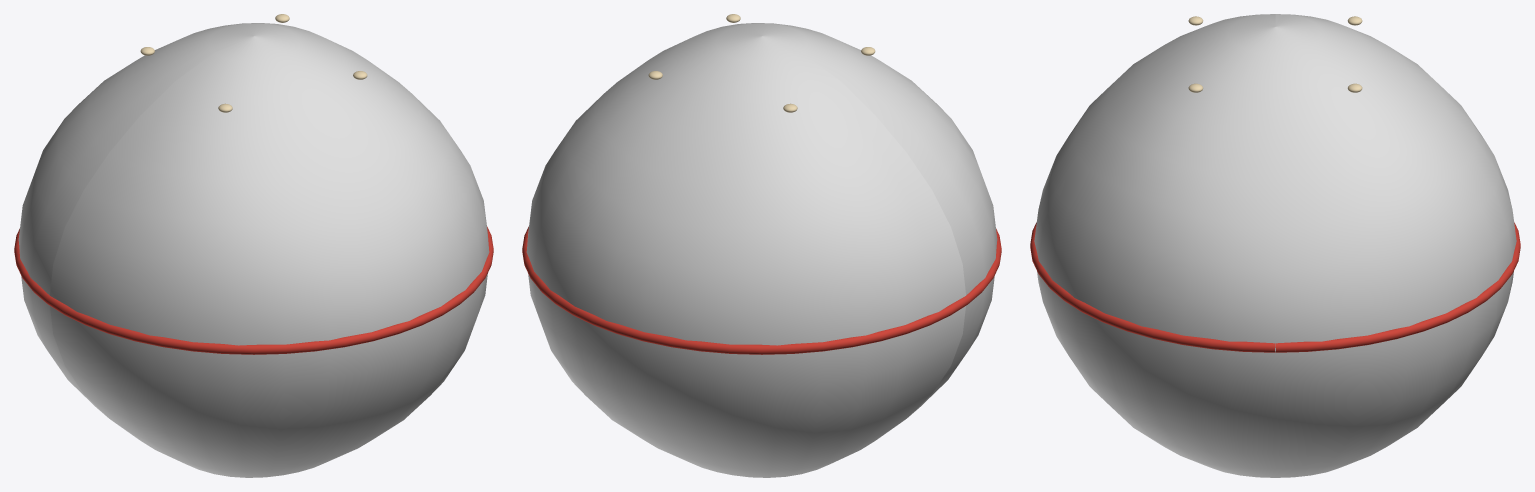
The model's file is pillow.glb.
The picture shows the model from 3 angles, left to right: view 1: azimuth 30°, elevation 25°; view 2: azimuth 150°, elevation 25°; view 3: azimuth 270°, elevation 25°; orthographic projection. The views are drawn at different scales.
Visible parts, largest first — view 1: linen, red; view 2: linen, red; view 3: linen, red.
Part boxes in pixels (x1,y1,x2,y2): linen: [18, 23, 489, 477]; red: [14, 226, 493, 354]; linen: [526, 23, 997, 477]; red: [522, 226, 1001, 354]; linen: [1034, 14, 1516, 477]; red: [1030, 222, 1520, 352].
Bounding box in the file's own units: 0.8011 × 0.79 × 0.8011.
